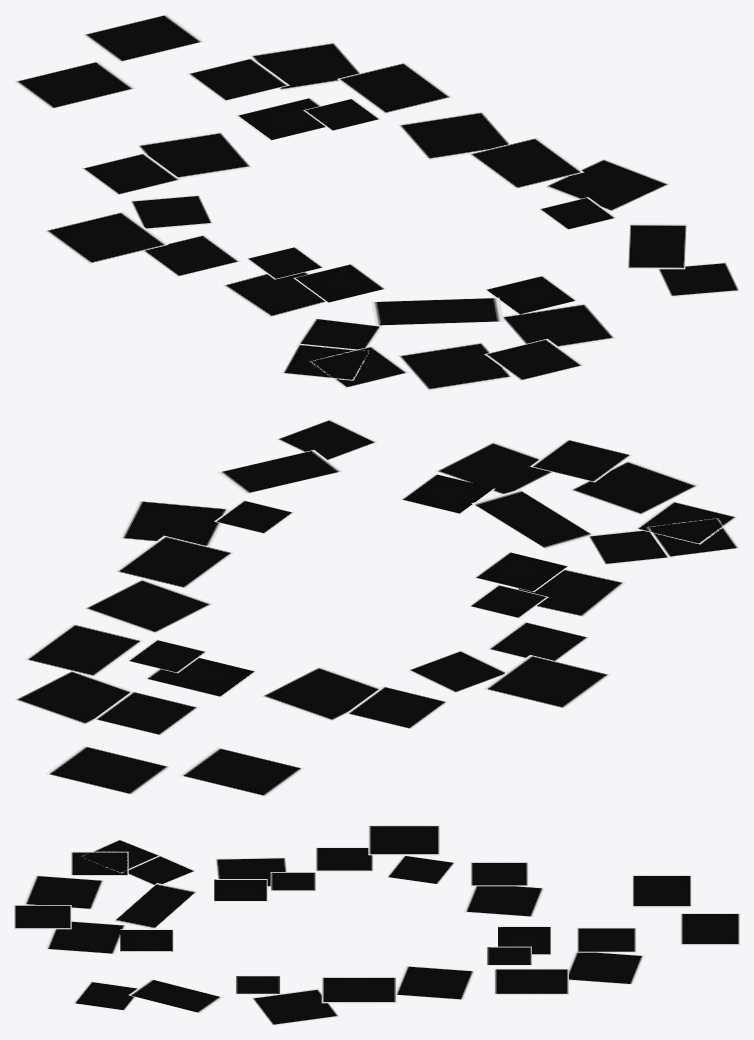
The model's file is shadow.fbx.
3 views of the same model, one above another, from view 1: azimuth 30°, elevation 25°; view 2: azimuth 150°, elevation 25°; view 3: azimuth 270°, elevation 25° (orthographic). The views are drawn at different scales.
Visible parts, largest first — view 1: tree_shadow_poly, rock_shadow_poly; view 2: tree_shadow_poly, rock_shadow_poly; view 3: tree_shadow_poly, rock_shadow_poly.
Boxes of the visible parts, x1,y1,x2,y2 form: tree_shadow_poly: (14, 14, 739, 390); rock_shadow_poly: (236, 97, 576, 314); tree_shadow_poly: (14, 419, 739, 796); rock_shadow_poly: (145, 474, 568, 697); tree_shadow_poly: (14, 825, 739, 1025); rock_shadow_poly: (120, 879, 550, 955).
Size of the model in its own units: 1920 by 7.54 by 2961.
